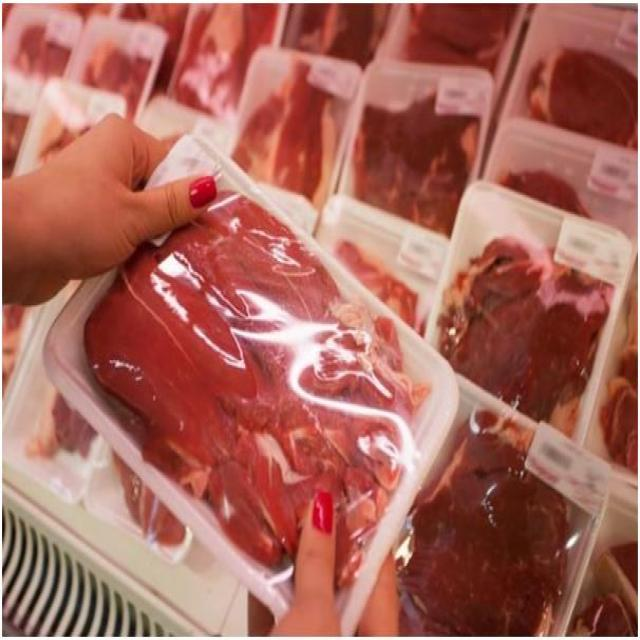pork: (58, 166, 472, 592)
